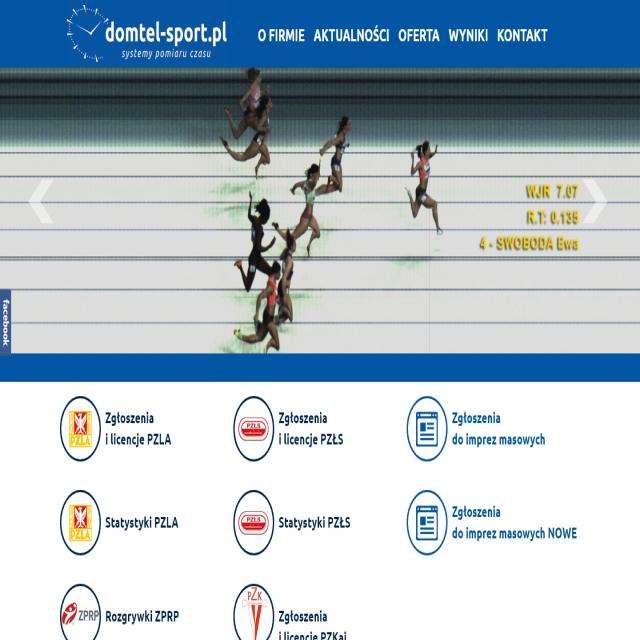button: (400, 488, 584, 563), (403, 390, 561, 465), (57, 484, 181, 561), (233, 390, 351, 464), (232, 490, 355, 559), (58, 392, 170, 464), (58, 581, 182, 640), (233, 582, 358, 640), (314, 15, 392, 52), (251, 17, 309, 56), (494, 14, 549, 53), (398, 14, 442, 56), (446, 14, 490, 54)
heading: (105, 18, 226, 48)
image: (63, 5, 114, 64)
text: (473, 182, 583, 256), (450, 504, 577, 548), (448, 404, 554, 451), (274, 406, 346, 448), (104, 408, 170, 452), (274, 505, 352, 540), (276, 608, 353, 640), (102, 509, 179, 537), (102, 607, 180, 630)
